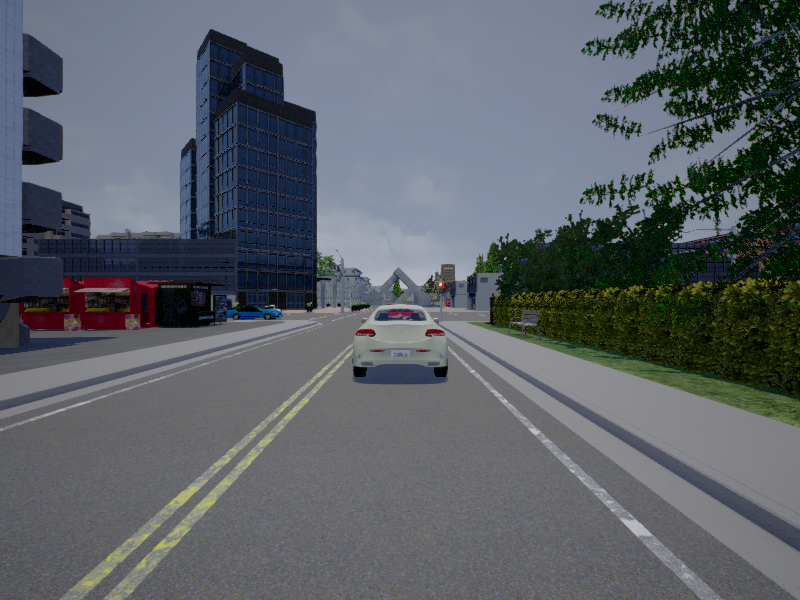Benign: (352, 305, 448, 377), (229, 303, 281, 320)
